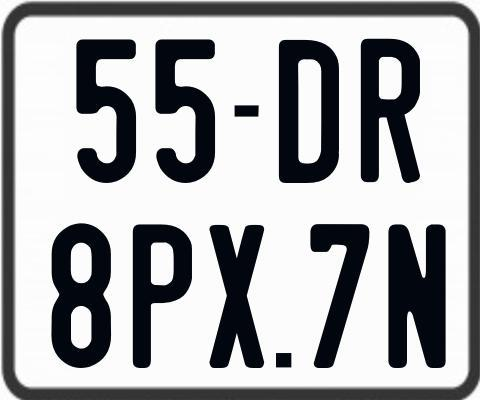5: (153, 39, 219, 188), (75, 37, 136, 184)
7: (310, 224, 369, 374)
8: (48, 221, 112, 368)
D: (277, 38, 343, 187)
N: (388, 221, 449, 370)
P: (132, 222, 191, 371)
R: (360, 39, 425, 188)
X: (209, 224, 269, 369)
